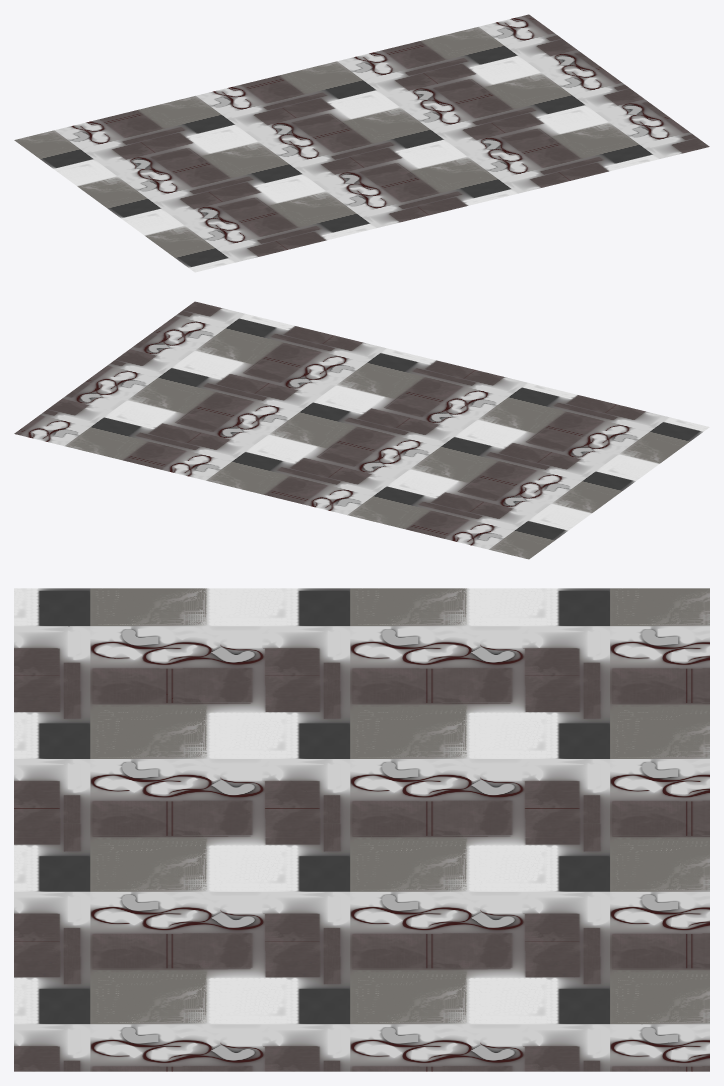
The model's file is Roof.fbx.
3 renders of one model, top to bottom at view 1: azimuth 30°, elevation 25°; view 2: azimuth 150°, elevation 25°; view 3: azimuth 270°, elevation 25°, orthographic. The views are drawn at different scales.
Visible parts, largest first — view 1: 13ZDCJ_tianhuaban.001; view 2: 13ZDCJ_tianhuaban.001; view 3: 13ZDCJ_tianhuaban.001.
Boxes of the visible parts, <box> form: 13ZDCJ_tianhuaban.001: <box>14,14,709,272</box>; 13ZDCJ_tianhuaban.001: <box>14,301,709,559</box>; 13ZDCJ_tianhuaban.001: <box>14,588,709,1071</box>.
Size of the model in its own units: 30.32 by 0.1657 by 18.45.
